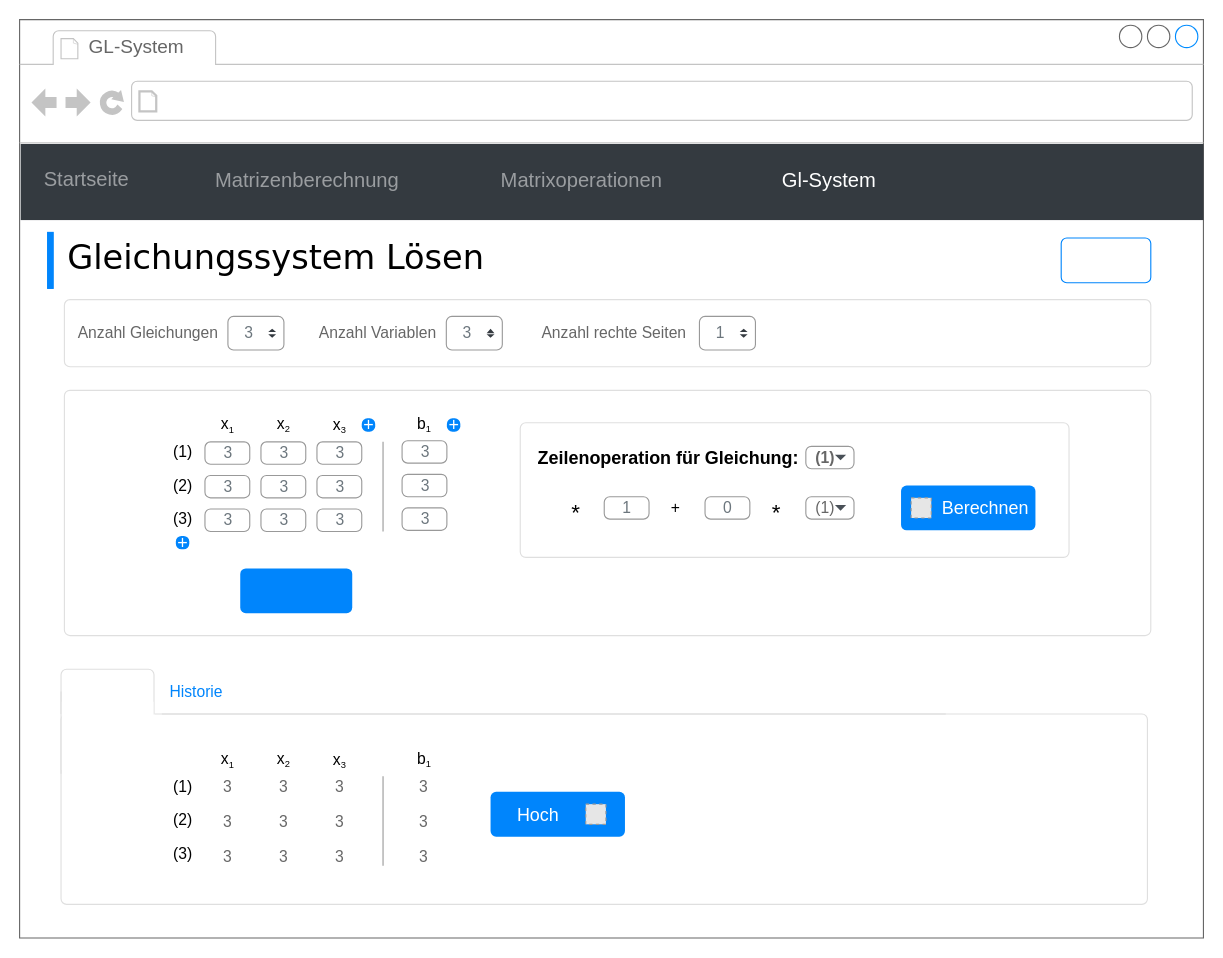
Image size: 1223x958. Some labels were removed from this diagram. Grey dashed boxes stand in for pictures. Here are the shapes that lost their labels. From the top down, the box of each, then its label:
(164, 86, 445, 116): https://www.default.com/gl-system
(20, 143, 1203, 220): Inversenberechnung
(1060, 237, 1151, 283): Hilfe
(240, 568, 352, 613): Lösen
(60, 668, 154, 714): Berechnung
